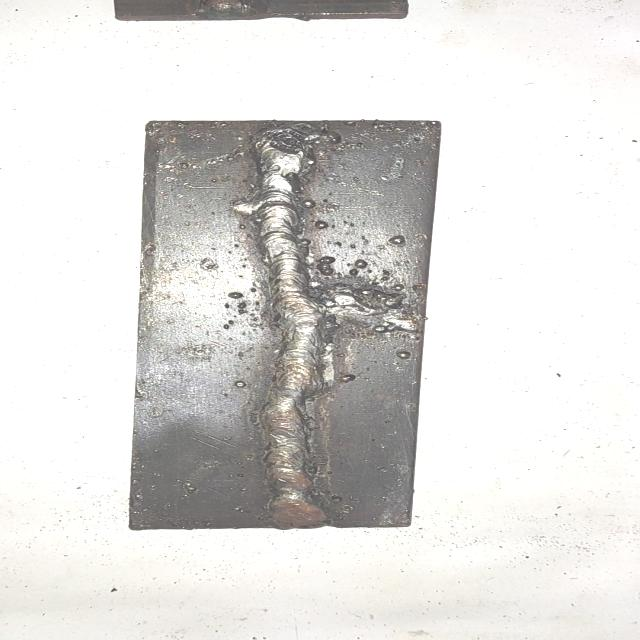Bad Weld: (254, 129, 328, 521)
Defect: (240, 273, 420, 339), (245, 122, 341, 160)
